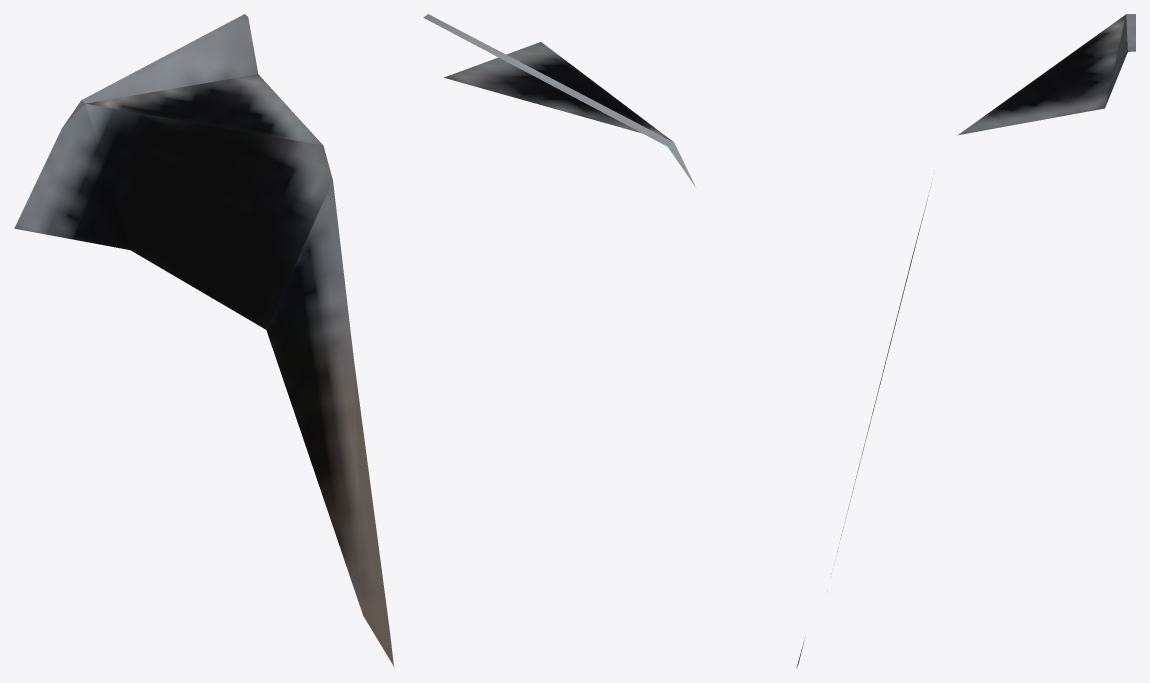
3 views of the same model, side by side, from view 1: azimuth 30°, elevation 25°; view 2: azimuth 150°, elevation 25°; view 3: azimuth 270°, elevation 25° (orthographic). The views are drawn at different scales.
Bounding box in the file's own units: 0.4977 × 1.13 × 0.5613.
Materials: 1 (1 with a texture image).
